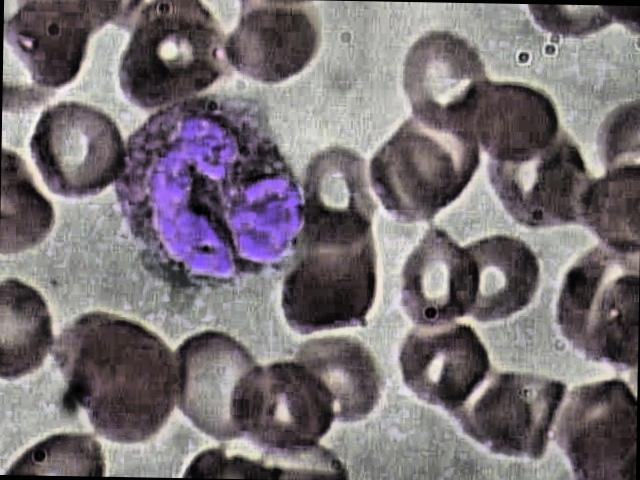RBC: (29, 97, 130, 211), (223, 360, 339, 458), (294, 330, 401, 428), (395, 317, 502, 414), (398, 34, 498, 133), (300, 142, 384, 257), (221, 0, 320, 97), (454, 228, 542, 328), (394, 227, 482, 326), (0, 278, 61, 389)
WBC: (100, 97, 324, 293)
